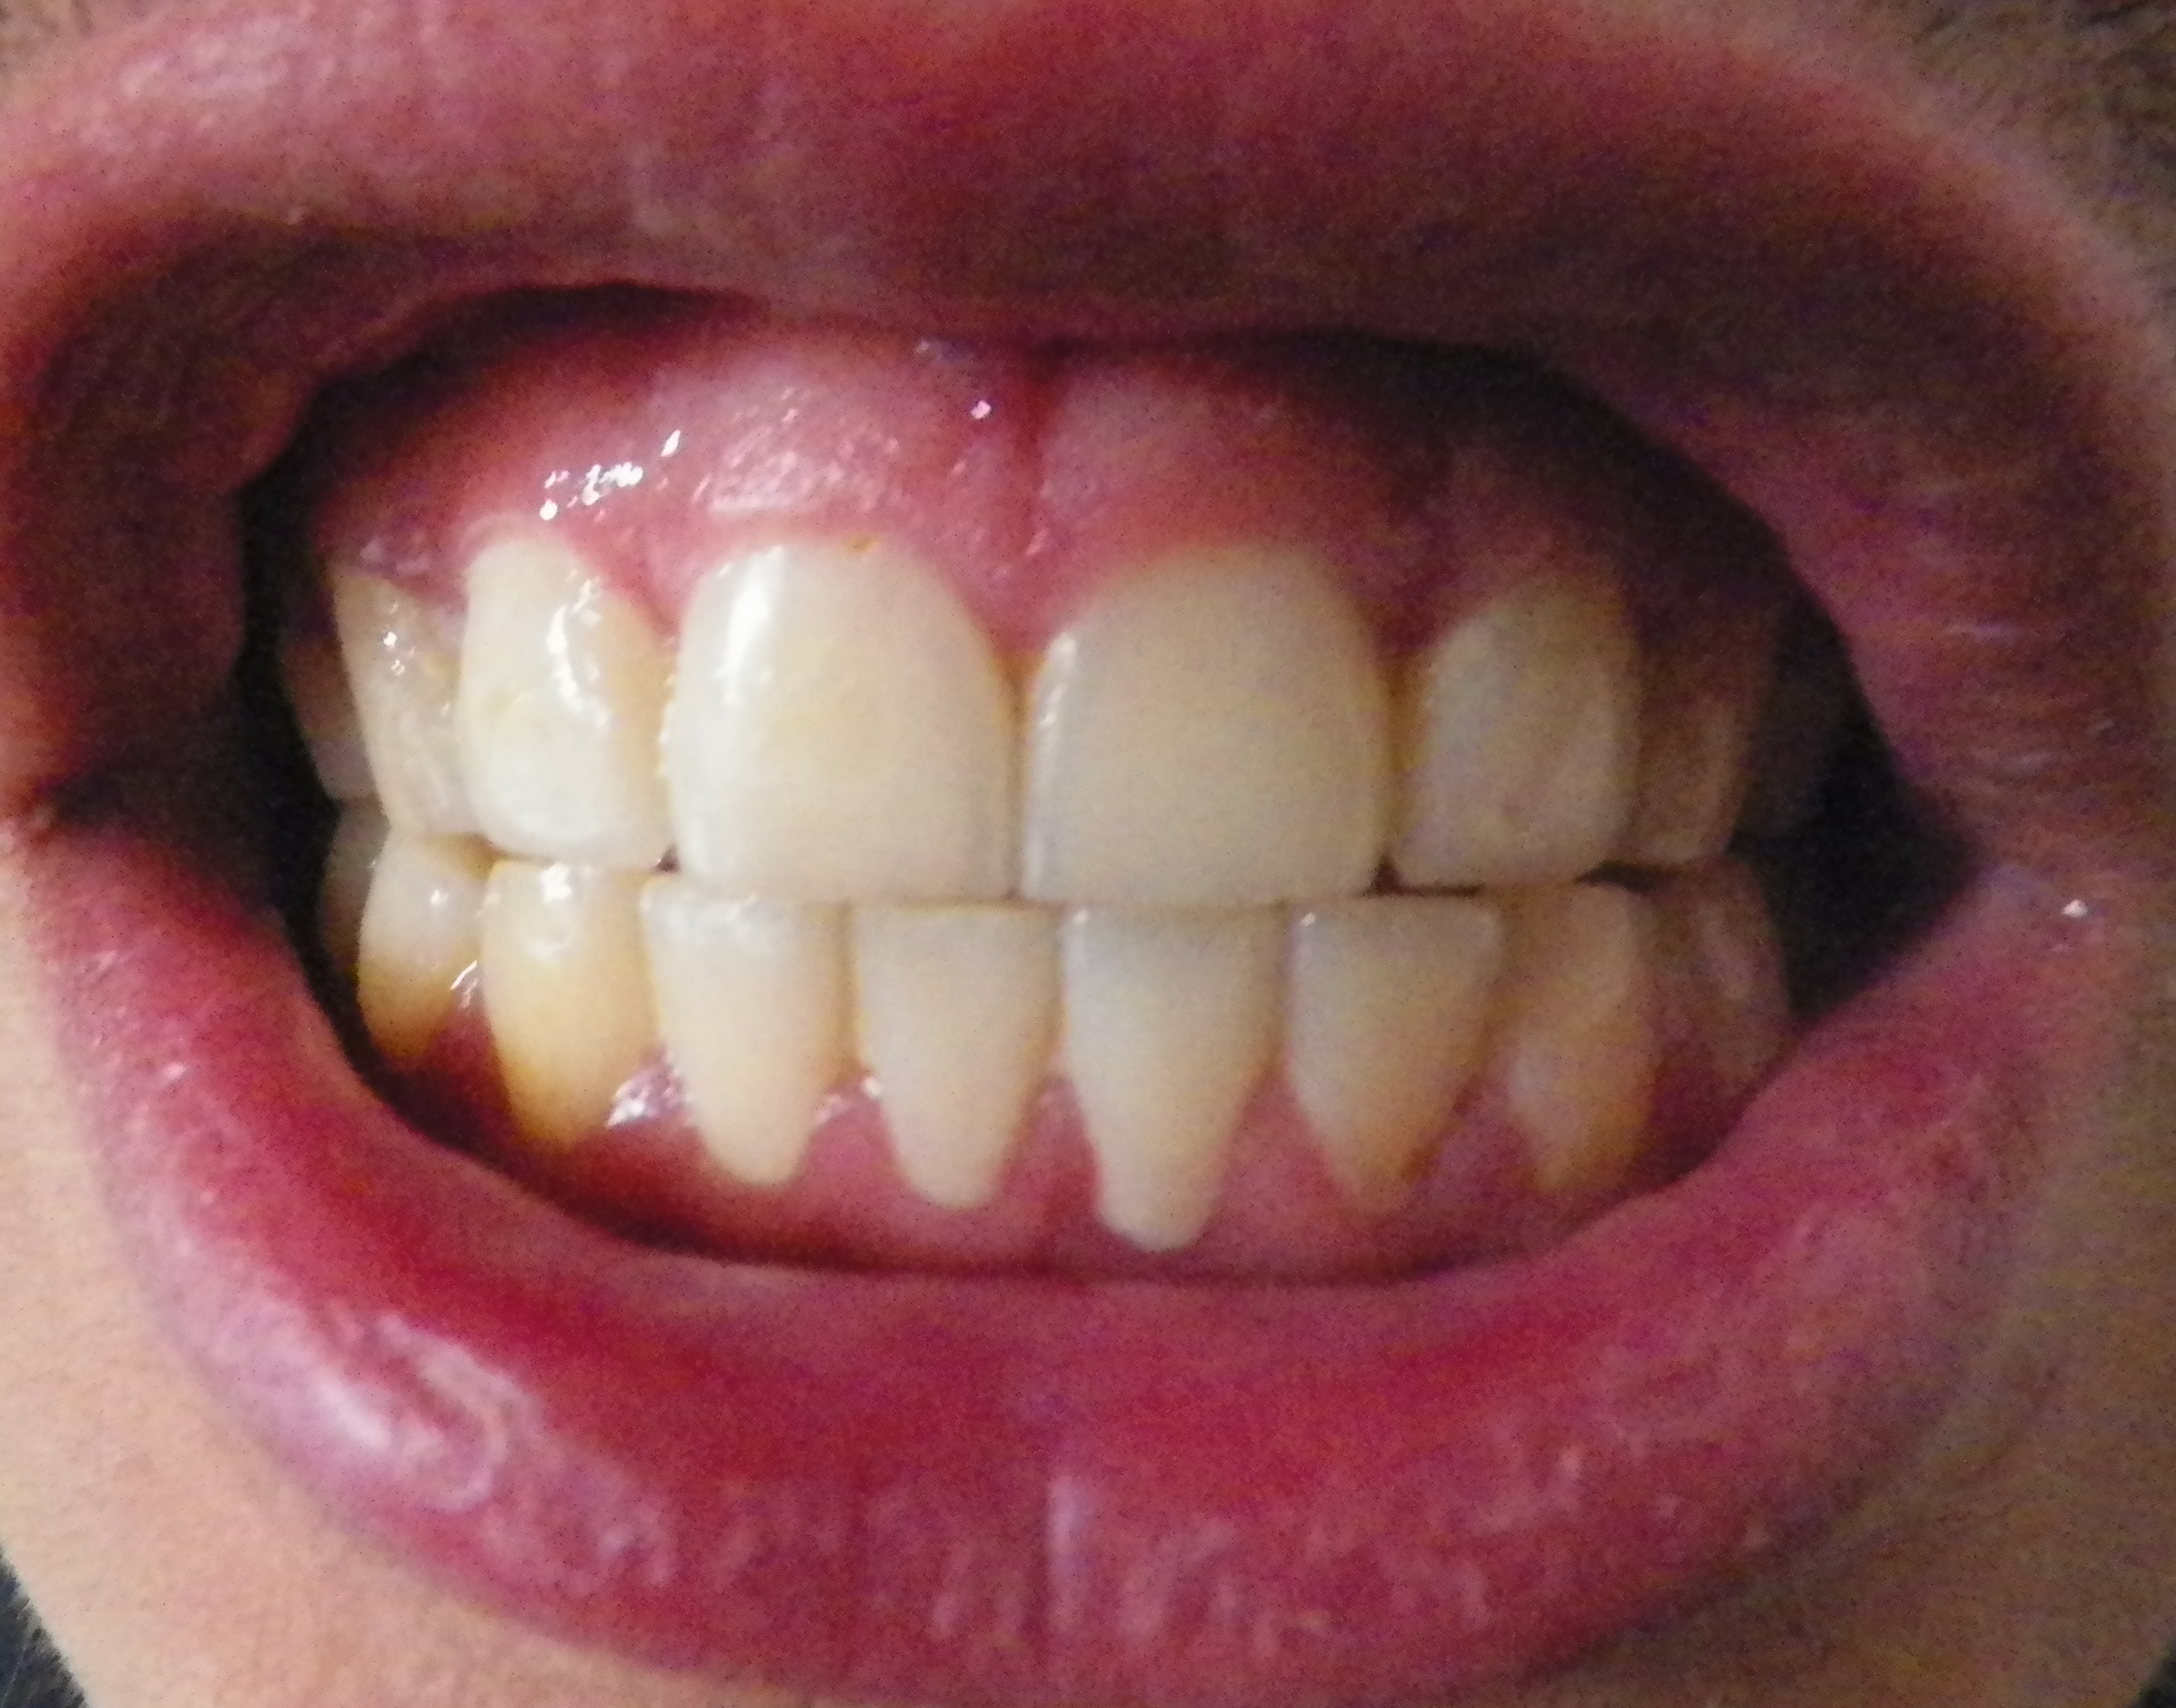boca: (231, 539, 1786, 1245)
